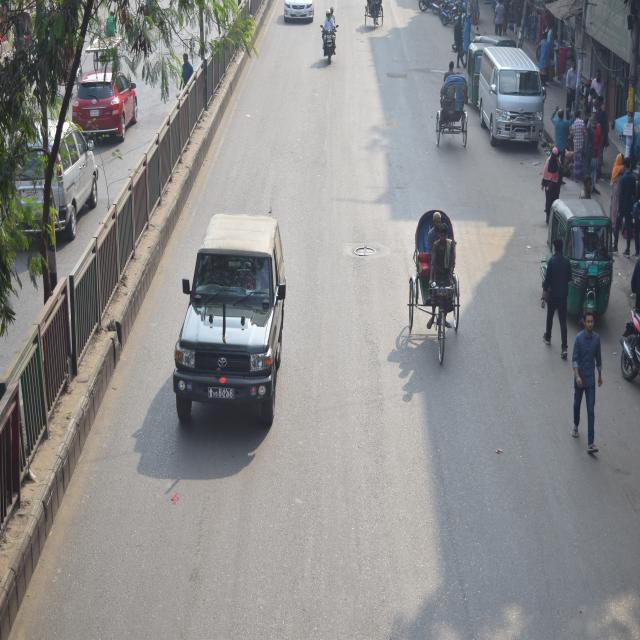car: (170, 208, 286, 429), (8, 124, 102, 224), (76, 65, 138, 134)
microbus: (472, 57, 554, 162)
motorbike: (318, 11, 342, 74)
